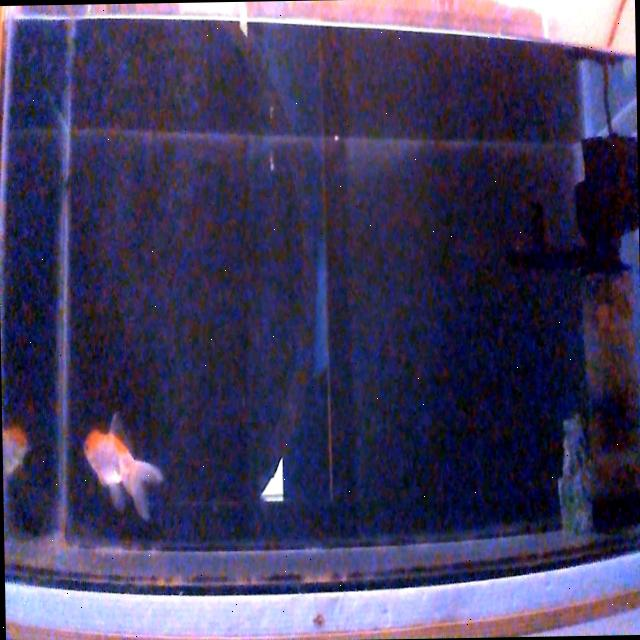fish: (82, 414, 164, 524), (2, 423, 30, 479)
